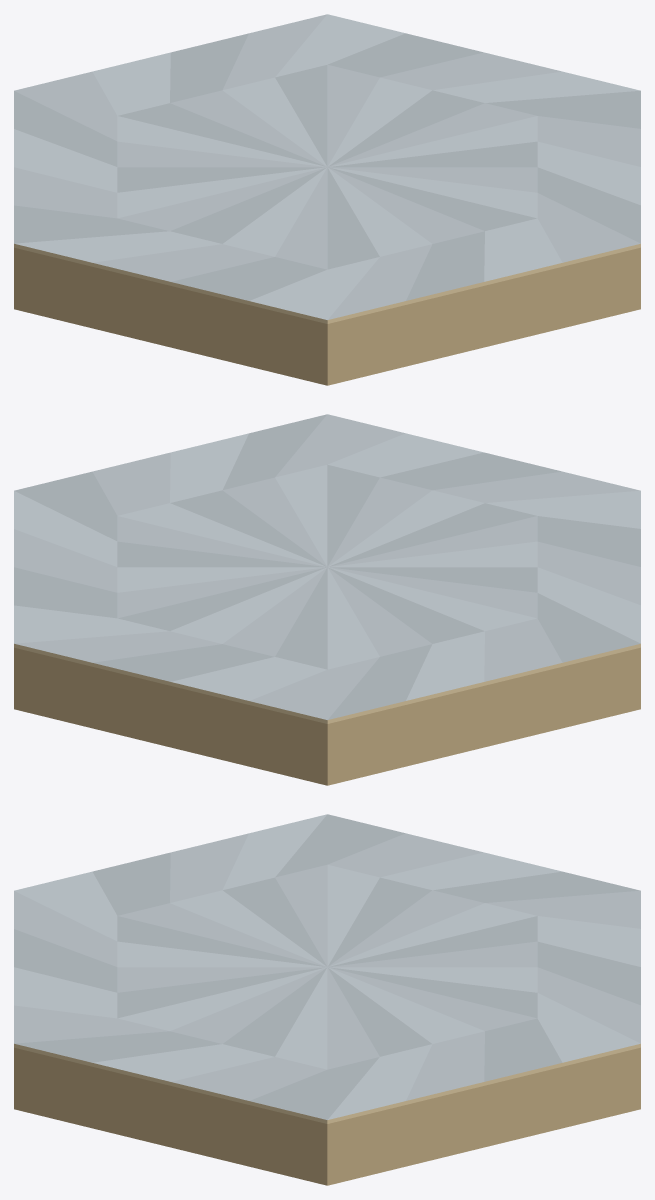
File: terrain.glb
3 views of the same model, one above another, from view 1: azimuth 30°, elevation 25°; view 2: azimuth 150°, elevation 25°; view 3: azimuth 270°, elevation 25° (orthographic).
Visible parts, largest first — view 1: Tile_高档场所_酒店候选方案; view 2: Tile_高档场所_酒店候选方案; view 3: Tile_高档场所_酒店候选方案.
Part boxes in pixels (x1,y1,x2,y2): Tile_高档场所_酒店候选方案: (14,14,640,385); Tile_高档场所_酒店候选方案: (14,414,640,785); Tile_高档场所_酒店候选方案: (14,814,640,1185).
Bounding box in the file's own units: 2 × 0.2 × 1.73.
